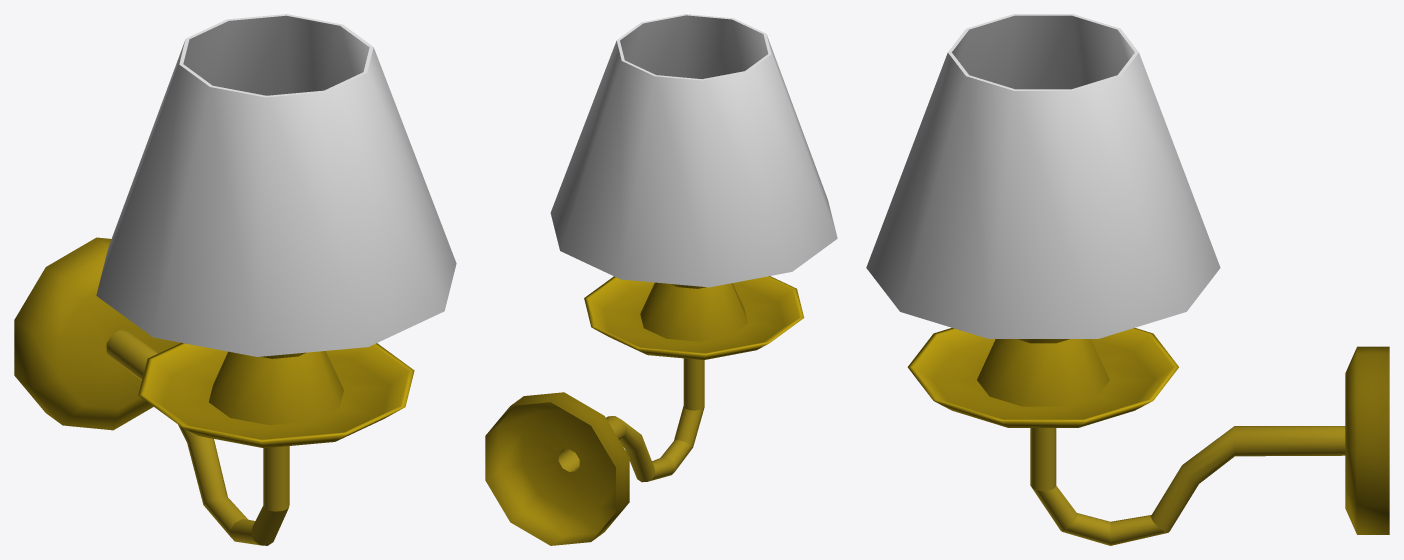
Rendered from walllamp.glb.
3 renders of one model, left to right at view 1: azimuth 30°, elevation 25°; view 2: azimuth 150°, elevation 25°; view 3: azimuth 270°, elevation 25°, orthographic. The views are drawn at different scales.
Parts seen in each view (by area): view 1: WallLamp; view 2: WallLamp; view 3: WallLamp.
Part boxes in pixels (x1=…): WallLamp: x1=14, y1=14, x2=456, y2=545; WallLamp: x1=485, y1=14, x2=837, y2=545; WallLamp: x1=866, y1=14, x2=1389, y2=545.
Size of the model in its own units: 0.1469 by 0.2368 by 0.2281.
1 material, 1 textured.
